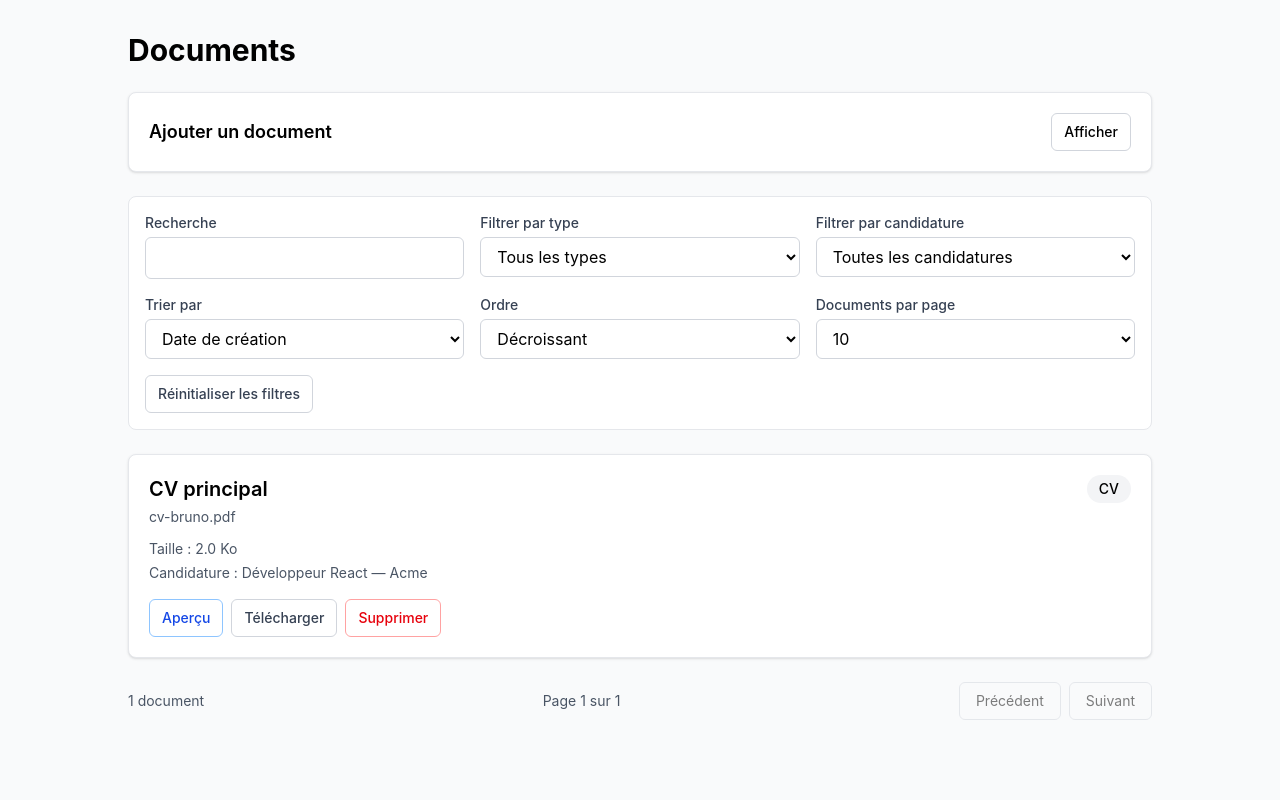
Scenario: DocumentsPage › does not report a lost selection while applications initially load
Expected: the heading "CV principal" is shown, left=149, top=475, right=268, bottom=503
Click the button with aria-label "Afficher Ajouter un document": (1091,132) left=1051, top=113, right=1131, bottom=151
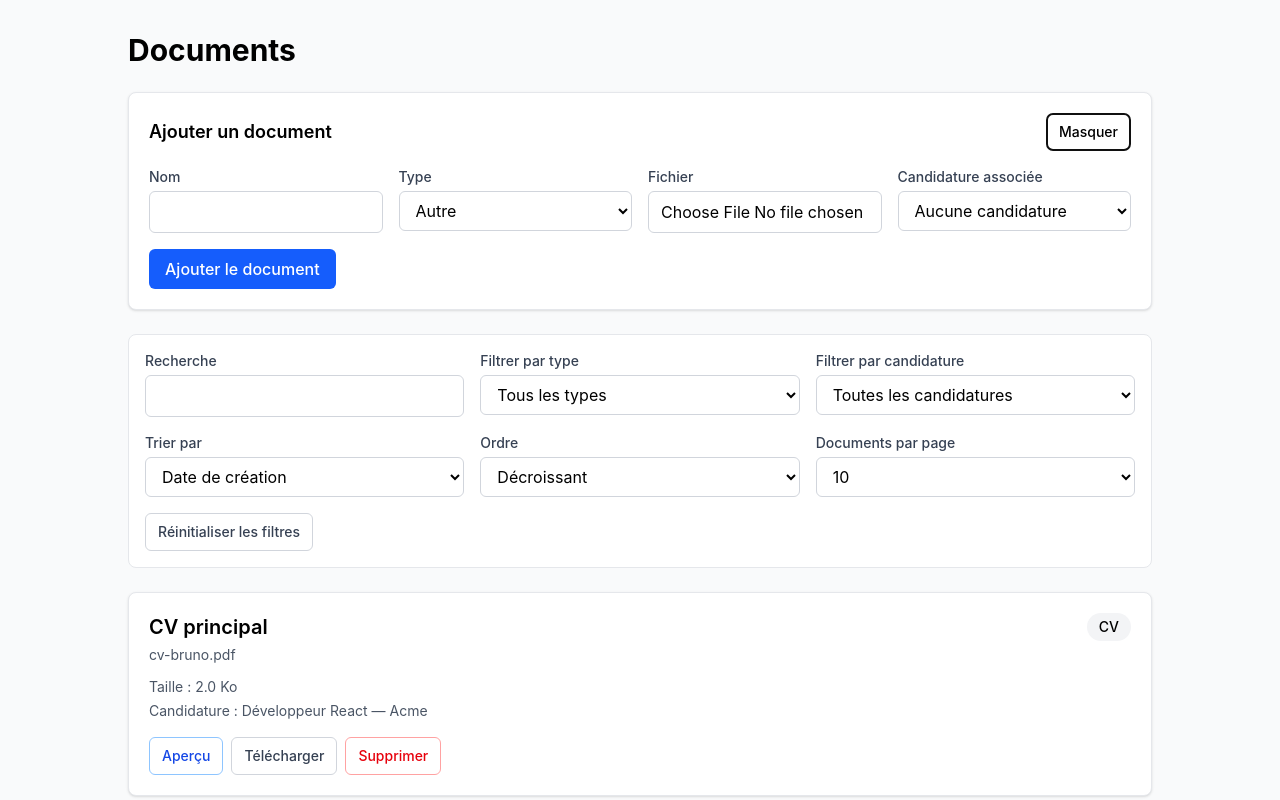
Expected: the dropdown labelled "Filtrer par candidature" shows "Toutes les candidatures", left=816, top=375, right=1135, bottom=415
Now the dropdown labelled "Candidature associée" shows "Aucune candidature", box left=898, top=191, right=1131, bottom=231
